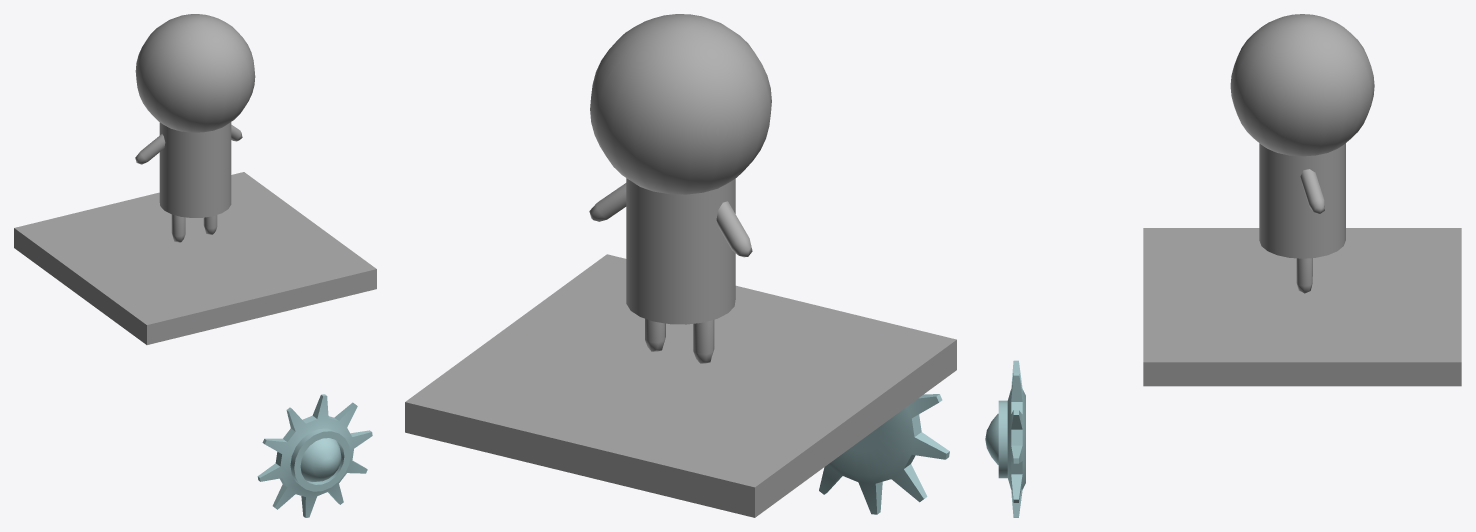
The model's file is dummy_front_UI.fbx.
3 views of the same model, side by side, from view 1: azimuth 30°, elevation 25°; view 2: azimuth 150°, elevation 25°; view 3: azimuth 270°, elevation 25° (orthographic). The views are drawn at different scales.
Visible parts, largest first — view 1: pCube1, character, Gear3; view 2: pCube1, character, Gear3; view 3: pCube1, character, Gear3.
Part boxes in pixels (x1,y1,x2,y2): pCube1: [14, 172, 376, 344]; character: [135, 14, 255, 242]; Gear3: [257, 394, 372, 517]; pCube1: [405, 254, 956, 517]; character: [589, 14, 771, 363]; Gear3: [819, 394, 949, 514]; pCube1: [1143, 228, 1461, 386]; character: [1230, 14, 1374, 293]; Gear3: [985, 360, 1025, 517].
Size of the model in its own units: 6 by 10.18 by 8.98.
